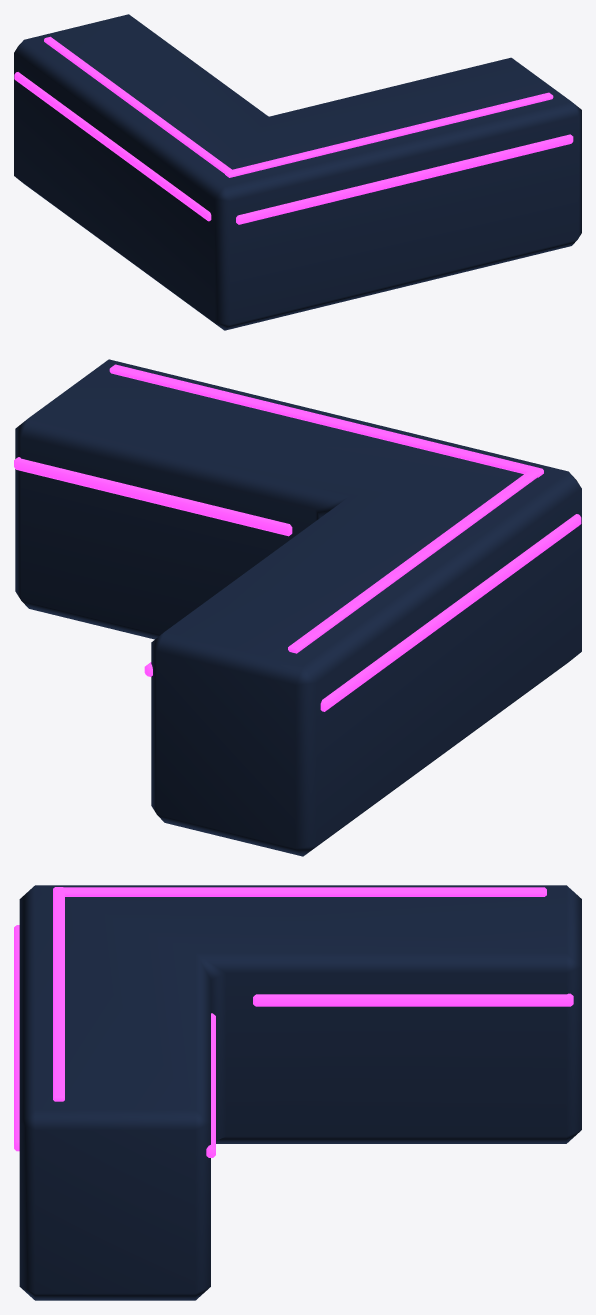
File: NT_Cover_L_Magenta.fbx
3 renders of one model, top to bottom at view 1: azimuth 30°, elevation 25°; view 2: azimuth 150°, elevation 25°; view 3: azimuth 270°, elevation 25°, orthographic. The views are drawn at different scales.
Visible parts, largest first — view 1: NT_Cover_L_Magenta__CoverMesh; view 2: NT_Cover_L_Magenta__CoverMesh; view 3: NT_Cover_L_Magenta__CoverMesh.
Boxes of the visible parts, x1,y1,x2,y2 form: NT_Cover_L_Magenta__CoverMesh: (14, 14, 581, 330); NT_Cover_L_Magenta__CoverMesh: (14, 359, 581, 856); NT_Cover_L_Magenta__CoverMesh: (14, 885, 581, 1300).
Size of the model in its own units: 2.02 by 0.774 by 2.02.
